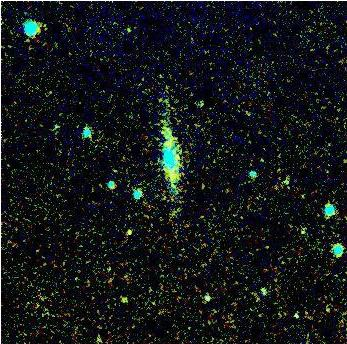star: (115, 215, 145, 245)
